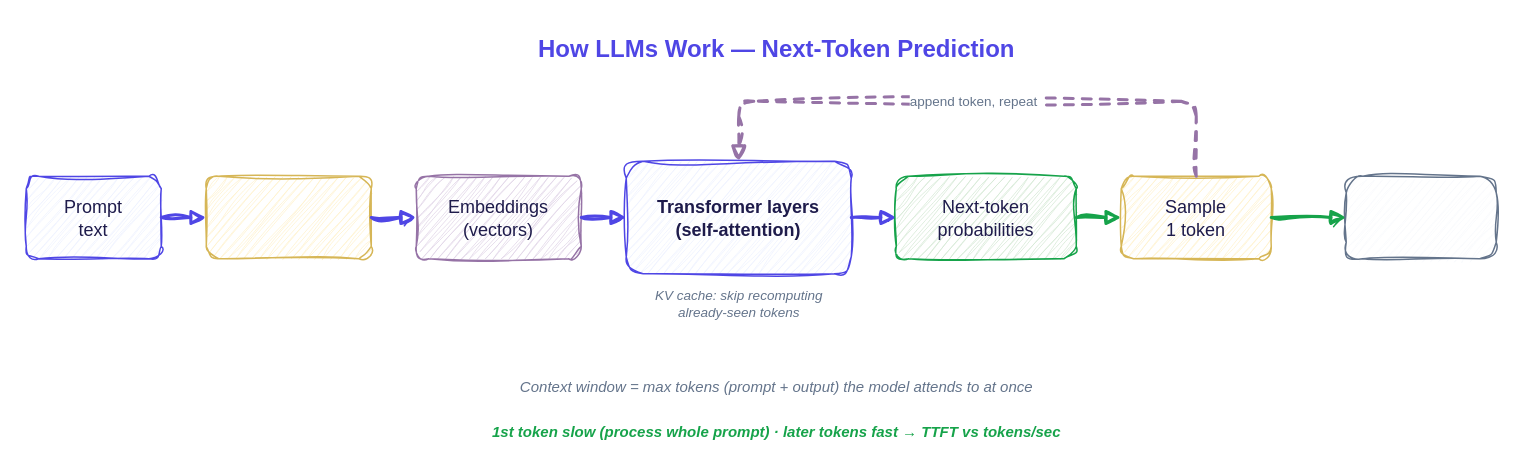
Image size: 1523x471. Some labels were removed from this diagram. The shapes that lost their labels are listed below. From the top down, each one's centre as x and y in pixels, then its label:
At [288,217]: "Tokenizer → tokens".
At [1420,217]: "Output text".
